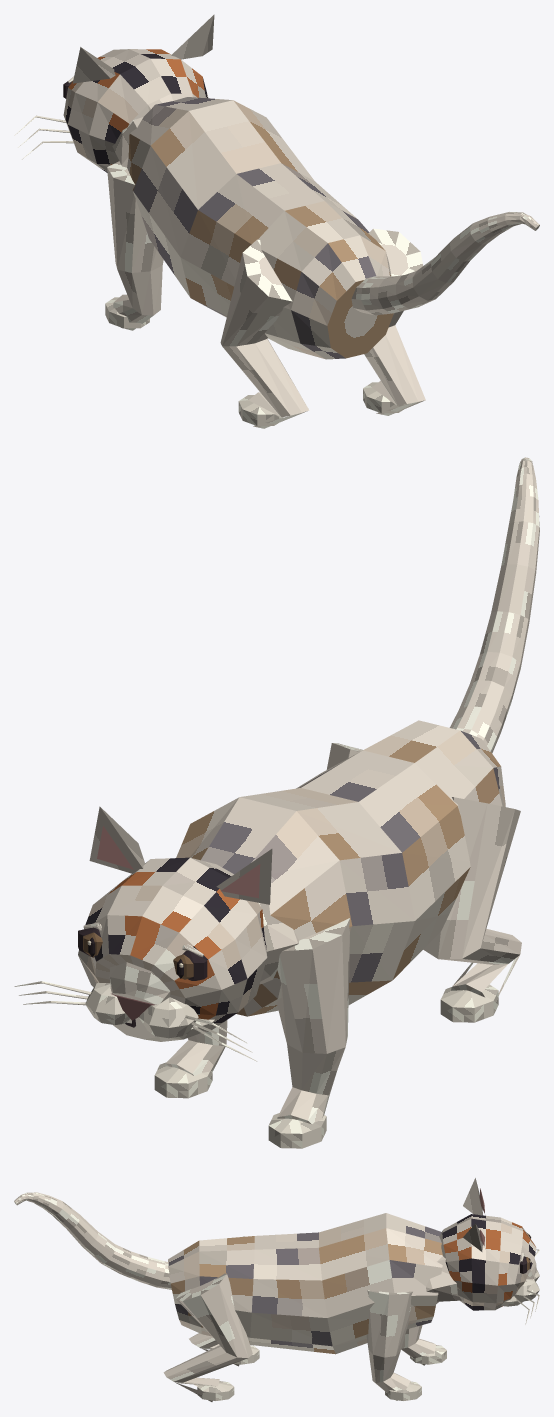
Rendered from mon_cat_calico_kitten.glb.
3 renders of one model, top to bottom at view 1: azimuth 30°, elevation 25°; view 2: azimuth 150°, elevation 25°; view 3: azimuth 270°, elevation 25°, orthographic. The views are drawn at different scales.
Parts seen in each view (by area): view 1: closed_body; view 2: closed_body; view 3: closed_body.
Part boxes in pixels (x1,y1,x2,y2): closed_body: [14, 14, 539, 428]; closed_body: [14, 457, 539, 1148]; closed_body: [14, 1178, 539, 1401].
Size of the model in its own units: 0.0971 by 0.1527 by 0.3467.
1 material, 1 textured.
